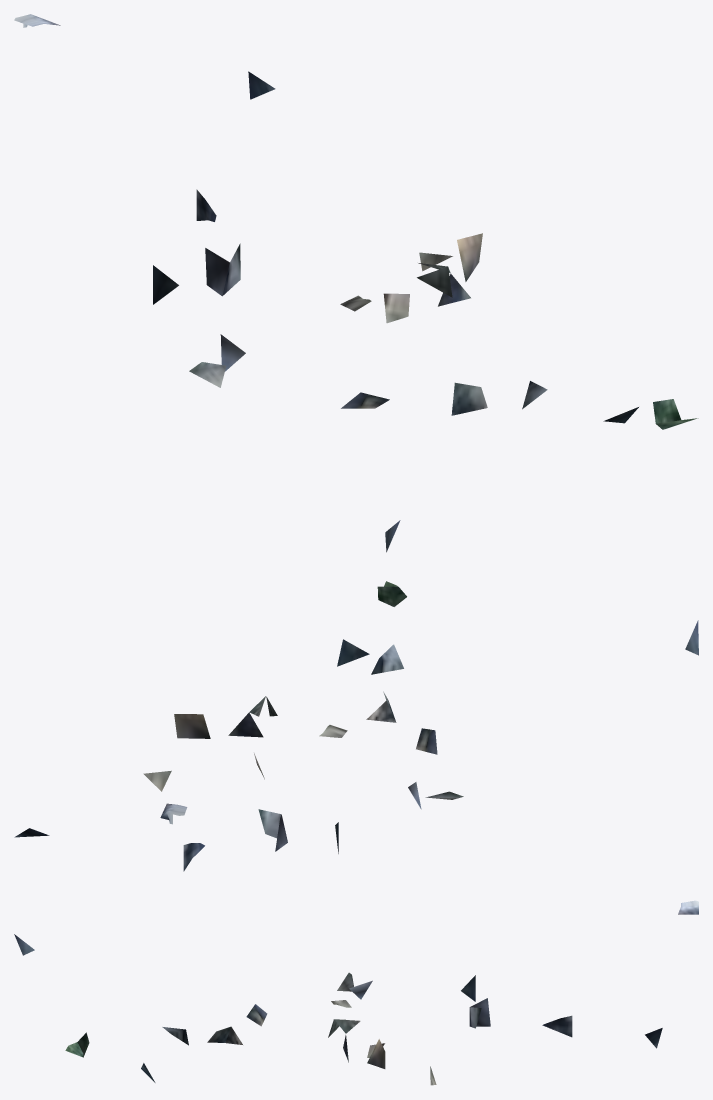
The picture shows the model from 3 angles, top to bottom: view 1: azimuth 30°, elevation 25°; view 2: azimuth 150°, elevation 25°; view 3: azimuth 270°, elevation 25°; orthographic projection. The views are drawn at different scales.
Visible parts, largest first — view 1: 30436272704370627610_1; view 2: 30436272704370627610_1; view 3: 30436272704370627610_1.
Part boxes in pixels (x1,y1,x2,y2): 30436272704370627610_1: (14,14,698,552); 30436272704370627610_1: (14,581,698,871); 30436272704370627610_1: (14,900,698,1085).
Bounding box in the file's own units: 14.72 × 6.32 × 35.02.
Materials: 1 (1 with a texture image).
